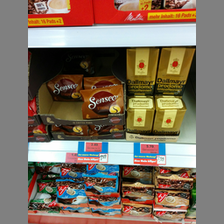coffee: (156, 47, 195, 91), (81, 84, 125, 117), (153, 97, 187, 136), (125, 48, 157, 89), (125, 96, 155, 134), (47, 72, 83, 102)
